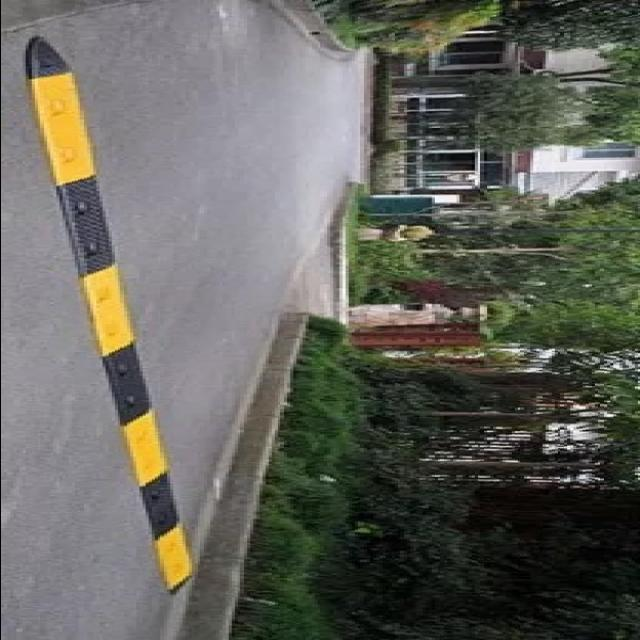speedbreaker: (28, 33, 206, 606)
